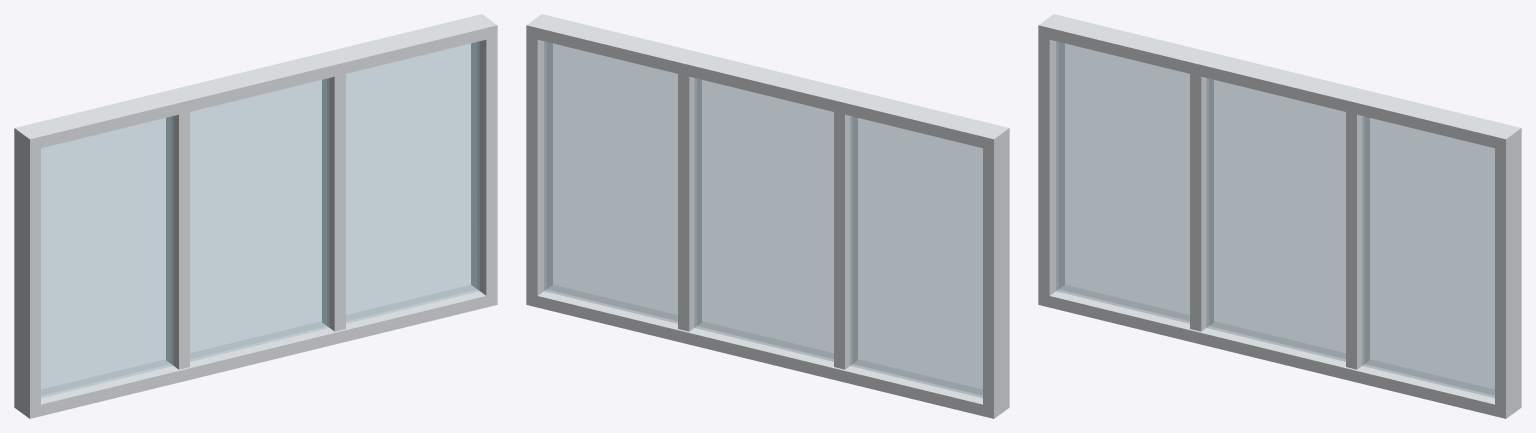
3 renders of one model, left to right at view 1: azimuth 30°, elevation 25°; view 2: azimuth 150°, elevation 25°; view 3: azimuth 330°, elevation 25°, orthographic.
Visible parts, largest first — view 1: glass, frame (×6); view 2: glass, frame (×6); view 3: glass, frame (×6).
Part boxes in pixels (<box>): glass: <box>41,41,479,397</box>; frame (×6): <box>14,14,497,418</box>; glass: <box>544,41,982,397</box>; frame (×6): <box>526,14,1009,418</box>; glass: <box>1056,41,1494,397</box>; frame (×6): <box>1038,14,1521,418</box>.
Size of the model in its own units: 2.1 by 1.2 by 0.12.
